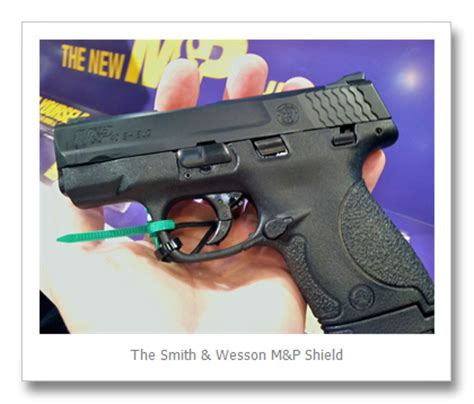gun: (53, 68, 432, 332)
